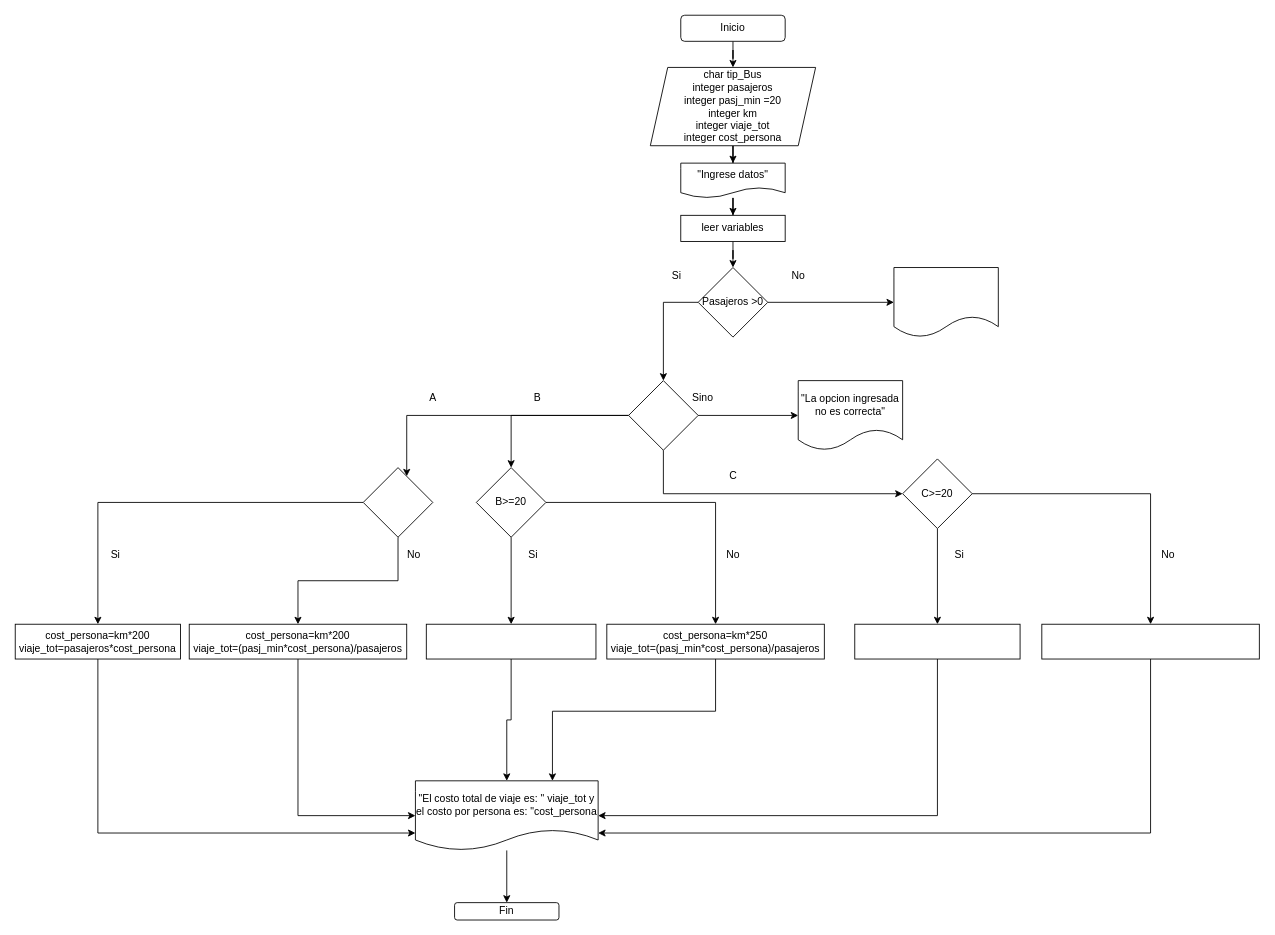
The diagram is 1275 pixels wide and 935 high, and some of its shapes have lost their labels. Here are the shapes that lost their labels. From the top down, the centre of each, then its label:
(x=945, y=302): "La cantidad de pasajeros debe ser mayor a 0"
(x=663, y=415): A,B,C,Sino
(x=397, y=502): A>=20
(x=510, y=641): cost_persona=km*250 viaje_tot=pasajeros*cost_persona
(x=937, y=641): cost_persona=km*300 viaje_tot=pasajeros*cost_persona
(x=1150, y=641): cost_persona=km*300 viaje_tot=(pasj_min*cost_persona)/pasajeros
